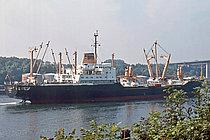Ship: (5, 26, 208, 107)
